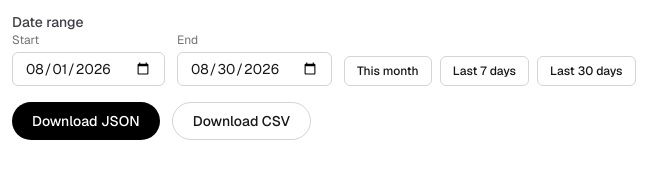
Test: ExportActions › date range › clears the date range error when dates become valid again
The width and height of the screenshot is (653, 181).
In the date field named "Start date": (88, 69) [12,52,165,86], type "2025-12-01"
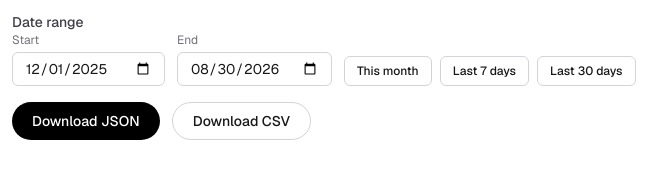
In the date field named "End date": (254, 69) [177,52,332,86], type "2025-01-01"
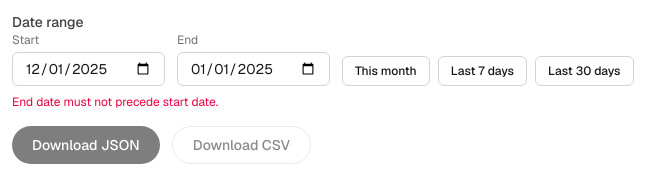
Expected: the message "End date must not precede start date." is shown, [12,94,218,110]
In the date field named "End date": (254, 69) [177,52,330,86], type "2025-12-31"
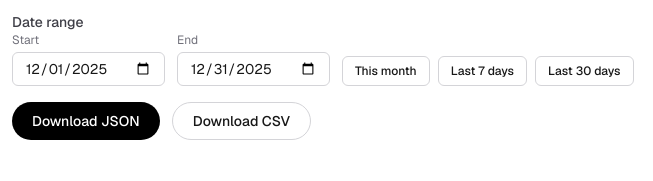
Expected: the message "End date must not precede start date." is gone
Expected: the button "Download JSON" is enabled, [12,102,160,140]
